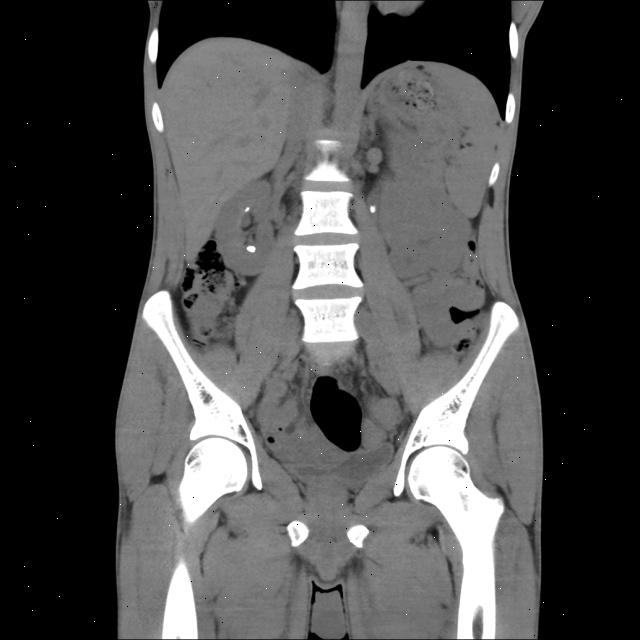kidneystone: (246, 243, 256, 254), (369, 205, 376, 213), (245, 206, 250, 212)
